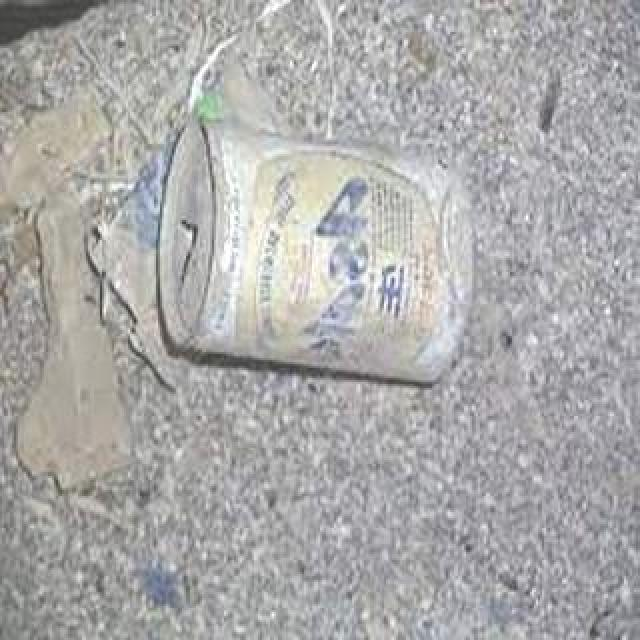Can: (131, 121, 493, 381)
